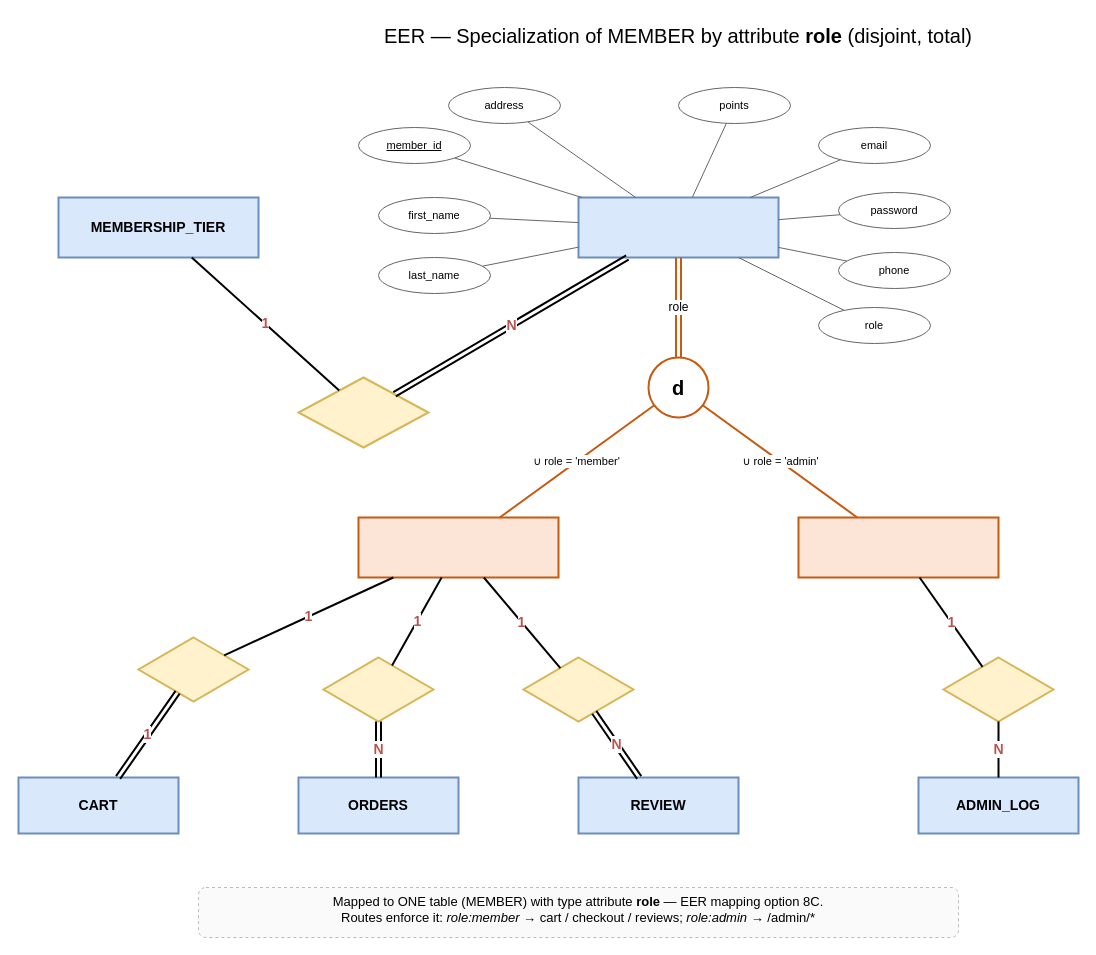
This 1096x955 diagram has some shape labels left out. The box of each missing label's shape, as (x1, y1, x2, y2) in pixels:
ADMIN: (797, 516, 999, 578)
belongs to: (297, 376, 429, 448)
CUSTOMER: (357, 516, 559, 578)
MEMBER: (577, 196, 779, 258)
owns: (137, 636, 249, 702)
performs: (942, 656, 1054, 722)
places: (322, 656, 434, 722)
writes: (522, 656, 634, 722)
